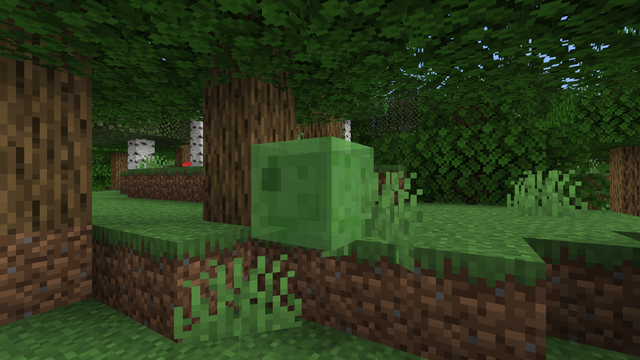slimes: (248, 131, 374, 252)
